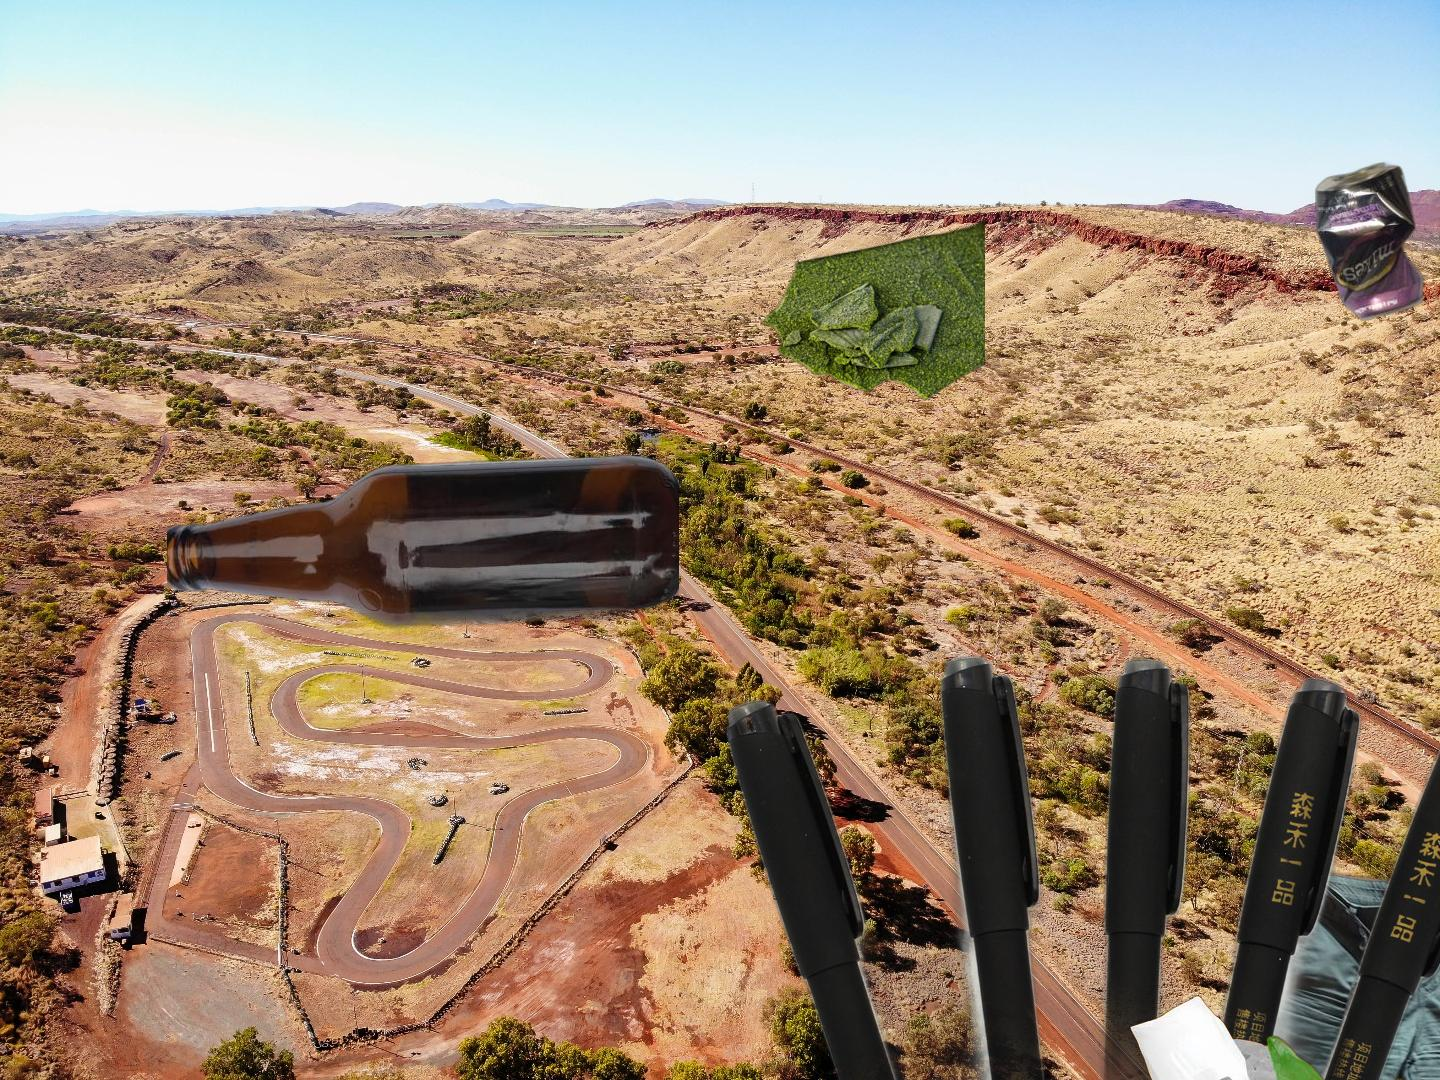clothes: (1219, 851, 1440, 1080)
glass: (167, 452, 679, 631)
metal-cans: (1312, 159, 1428, 324)
penholder: (719, 650, 1440, 1080)
plastic-bag: (1127, 993, 1374, 1080)
trashbox-cardboard: (748, 214, 985, 403)
